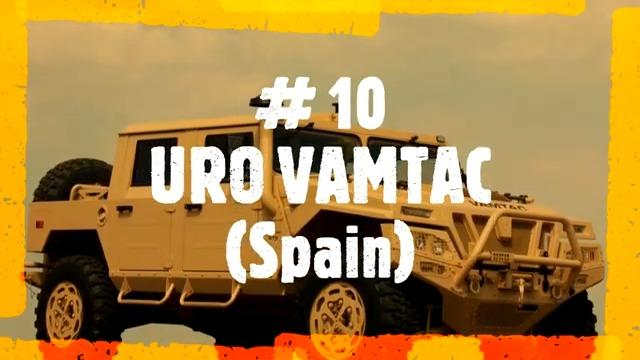MIL_HMMWV: (23, 111, 607, 360)
